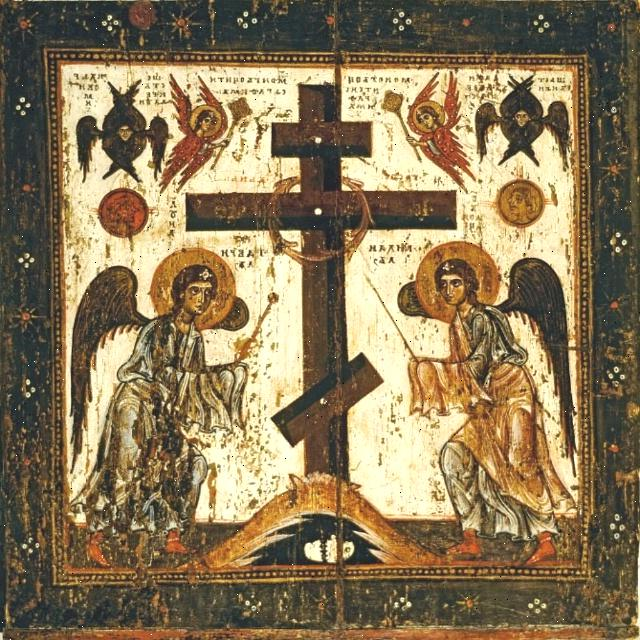angel: (63, 238, 265, 566), (403, 233, 583, 567), (164, 69, 231, 186), (406, 69, 473, 184)
cross: (181, 67, 456, 494)
scepter: (213, 93, 254, 178), (382, 87, 421, 168)
spear: (361, 267, 417, 364)
wing: (61, 259, 141, 464), (508, 257, 580, 466), (545, 97, 575, 176), (474, 98, 501, 161), (170, 72, 191, 131), (447, 74, 464, 127), (197, 76, 226, 106), (414, 72, 440, 101)
